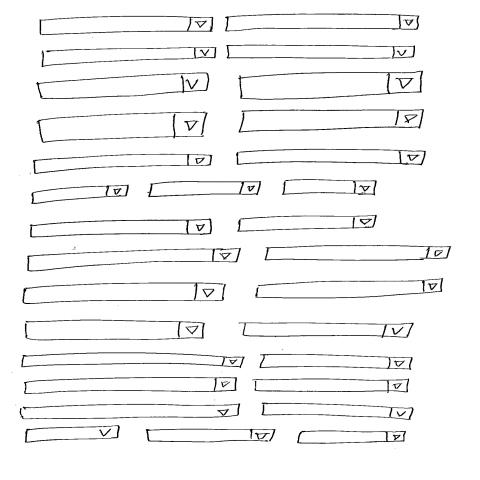Select: (239, 71, 425, 102), (36, 111, 209, 144), (26, 247, 242, 273), (36, 72, 211, 101), (238, 109, 426, 134), (21, 283, 227, 305), (41, 45, 219, 70), (23, 376, 238, 396), (253, 278, 444, 300), (32, 153, 213, 175), (20, 352, 246, 369), (24, 321, 206, 342), (19, 404, 243, 421), (224, 14, 421, 33), (29, 219, 214, 239), (39, 16, 215, 36), (236, 149, 428, 167), (264, 245, 452, 262), (226, 45, 418, 60), (242, 322, 414, 338), (259, 354, 414, 371), (261, 404, 414, 421), (236, 216, 377, 234), (29, 184, 131, 206), (147, 180, 263, 199), (254, 380, 411, 394), (146, 428, 277, 444), (22, 426, 120, 445), (296, 430, 407, 446), (281, 181, 378, 198)
